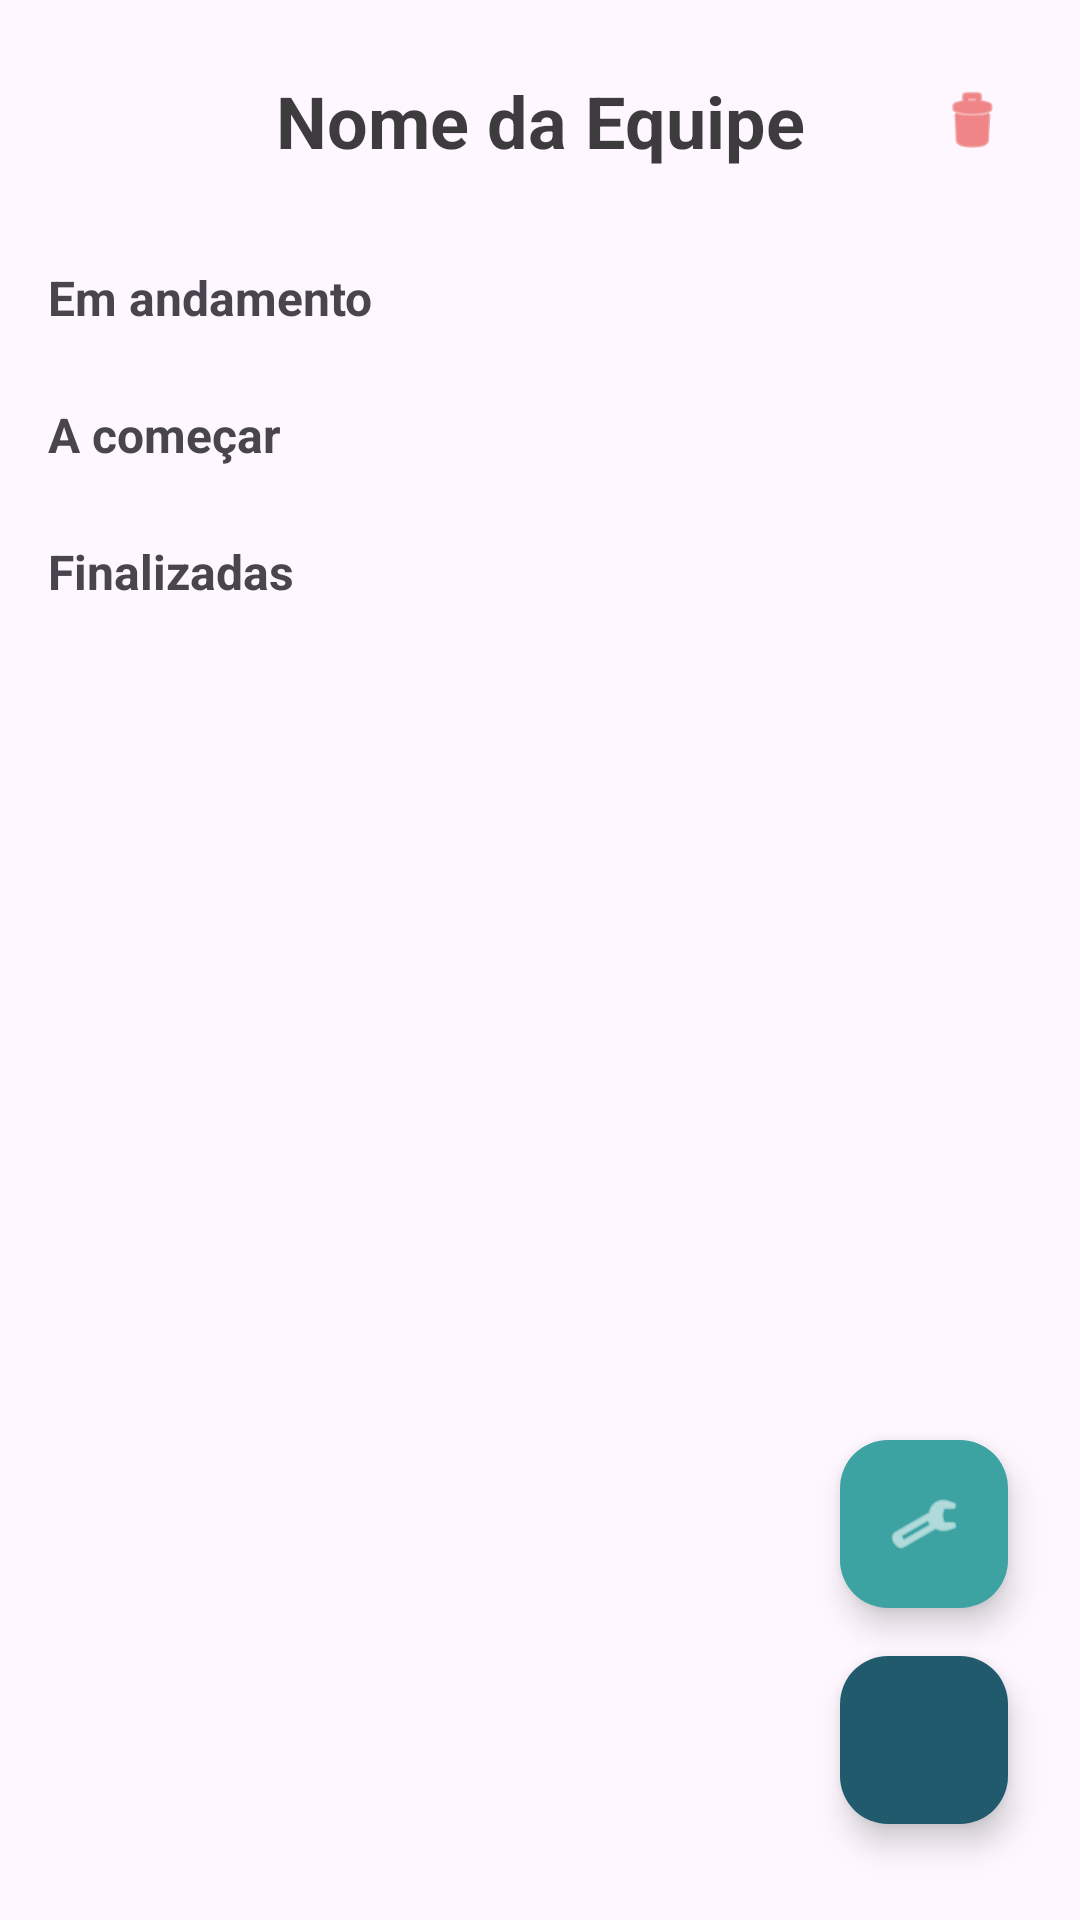

Screen size 1080px×1920px. Icon name, then its box in pixels as (x1, y1, x2, y2):
Excluir equipe: (952, 92, 993, 148)
Gerenciar membros da equipe: (840, 1440, 1008, 1608)
